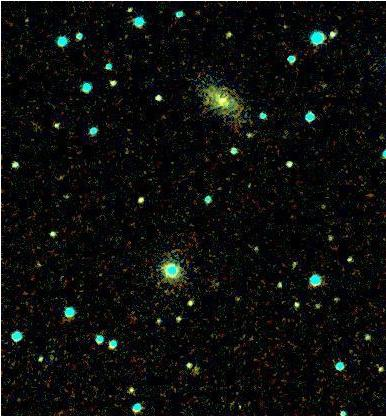star: (53, 182, 83, 212)
